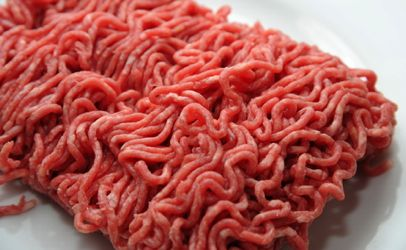ground_beef: (1, 1, 383, 250)
